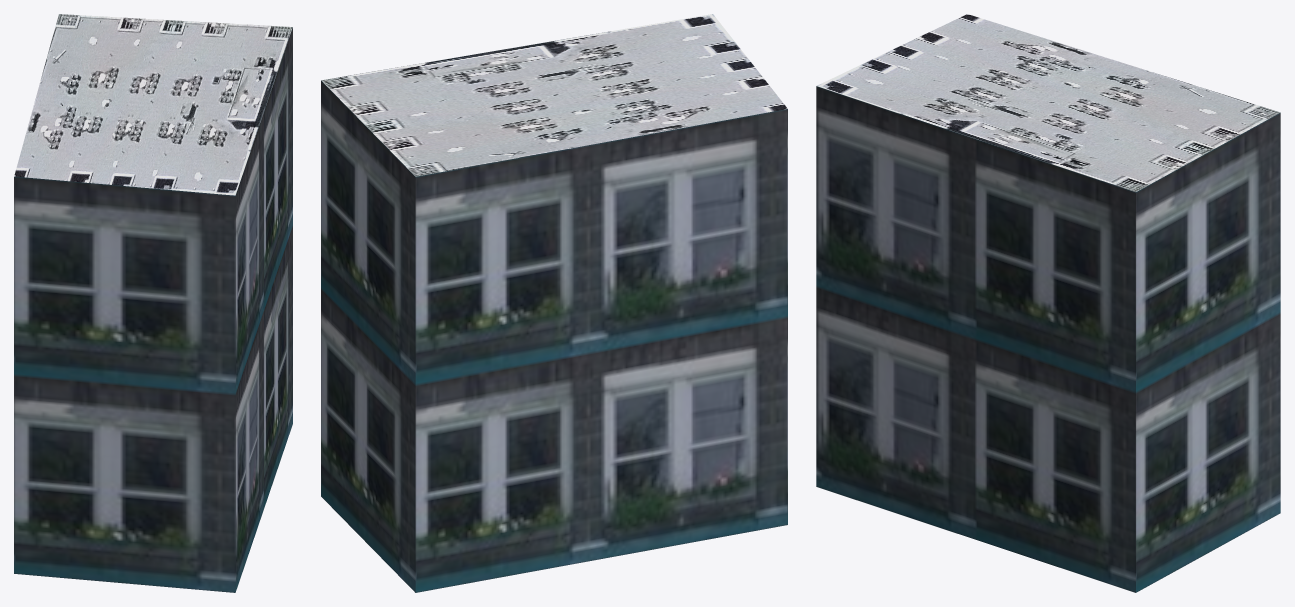
Rendered from ResTex__4942.fbx.
3 views of the same model, side by side, from view 1: azimuth 30°, elevation 25°; view 2: azimuth 150°, elevation 25°; view 3: azimuth 270°, elevation 25° (orthographic). The views are drawn at different scales.
Visible parts, largest first — view 1: CityEngineMaterial_11_m, CityEngineMaterial_4_m; view 2: CityEngineMaterial_11_m, CityEngineMaterial_4_m; view 3: CityEngineMaterial_11_m, CityEngineMaterial_4_m.
Boxes of the visible parts, <box> form: CityEngineMaterial_11_m: <box>14,27,292,592</box>; CityEngineMaterial_4_m: <box>14,14,292,195</box>; CityEngineMaterial_11_m: <box>321,80,787,592</box>; CityEngineMaterial_4_m: <box>321,14,787,176</box>; CityEngineMaterial_11_m: <box>816,86,1280,592</box>; CityEngineMaterial_4_m: <box>817,14,1280,191</box>.
Bounding box in the file's own units: 5.72 × 6 × 6.3.
Materials: 2 (2 with a texture image).
